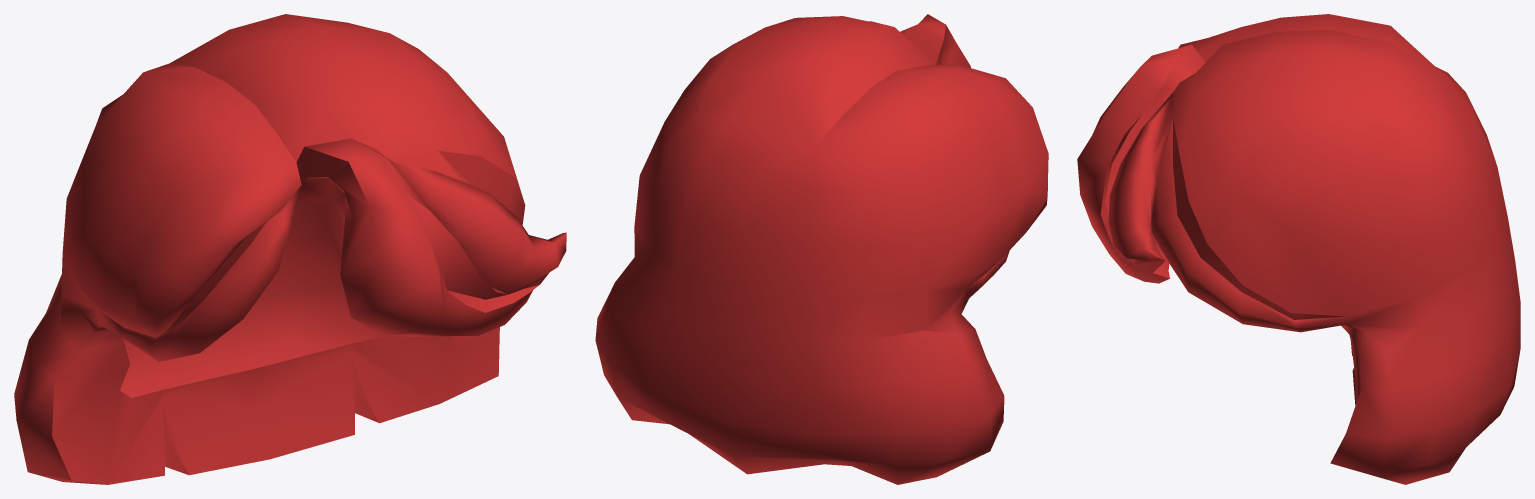
File: Hair_Red_7.fbx
3 renders of one model, left to right at view 1: azimuth 30°, elevation 25°; view 2: azimuth 150°, elevation 25°; view 3: azimuth 270°, elevation 25°, orthographic. The views are drawn at different scales.
Parts seen in each view (by area): view 1: Hair_Red_7; view 2: Hair_Red_7; view 3: Hair_Red_7.
Part boxes in pixels (x1,y1,x2,y2): Hair_Red_7: [14, 14, 566, 484]; Hair_Red_7: [595, 14, 1048, 484]; Hair_Red_7: [1077, 14, 1520, 484].
Size of the model in its own units: 67.35 by 62.65 by 64.72.
